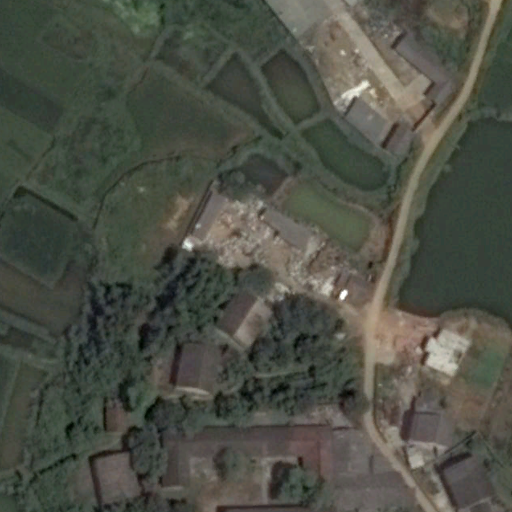msw: (206, 203, 336, 300)
